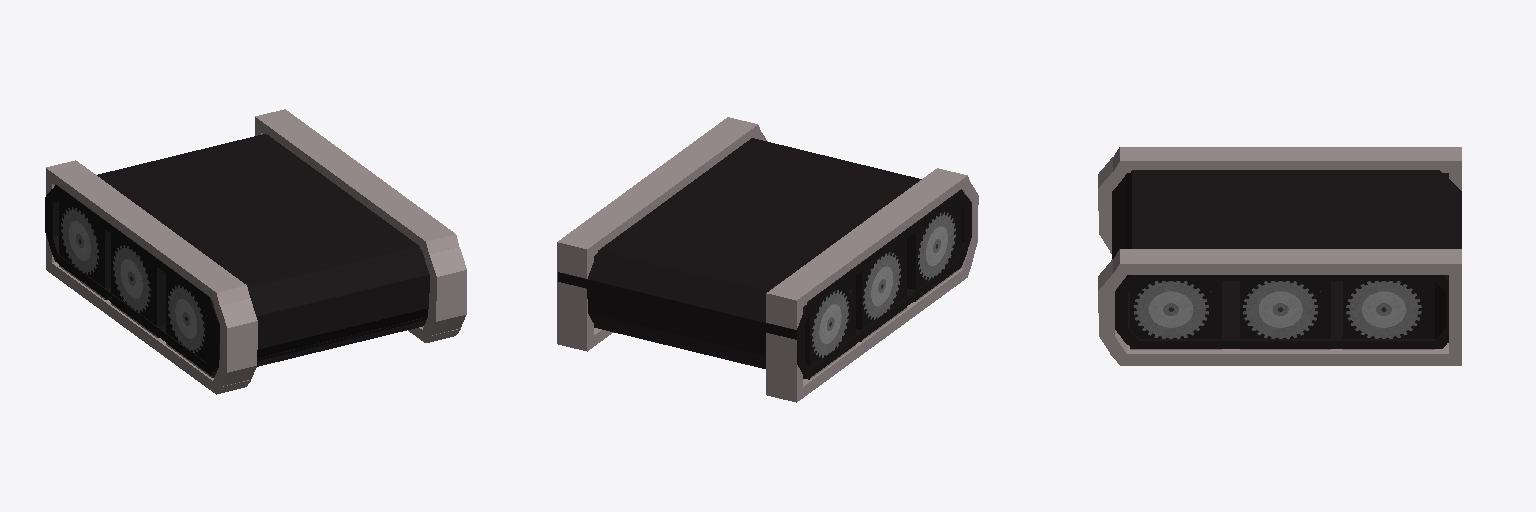
The picture shows the model from 3 angles: view 1: azimuth 30°, elevation 25°; view 2: azimuth 150°, elevation 25°; view 3: azimuth 270°, elevation 25°; orthographic projection.
Visible parts, largest first — view 1: polySurface9, pCube2, pasted__pCube2 group8, pasted__pasted__pCube2 pasted__group8 group9; view 2: polySurface9, pCube2, pasted__pCube2 group8, pasted__pasted__pCube2 pasted__group8 group9; view 3: polySurface9, pasted__pasted__pCube2 pasted__group8 group9, pasted__pCube2 group8, pCube2.
Boxes of the visible parts, box(x1,y1,x2,y2) form: polySurface9: box(45, 109, 466, 394); pCube2: box(166, 274, 425, 377); pasted__pCube2 group8: box(111, 234, 165, 337); pasted__pasted__pCube2 pasted__group8 group9: box(59, 196, 110, 299); polySurface9: box(557, 117, 978, 402); pCube2: box(907, 201, 961, 301); pasted__pCube2 group8: box(856, 238, 906, 341); pasted__pasted__pCube2 pasted__group8 group9: box(805, 276, 855, 379); polySurface9: box(1098, 147, 1461, 365); pasted__pasted__pCube2 pasted__group8 group9: box(1343, 281, 1434, 349); pasted__pCube2 group8: box(1240, 281, 1330, 349); pCube2: box(1130, 281, 1221, 349).
Bounding box in the file's own units: 8.22 × 3.33 × 10.77.
Materials: 1 (1 with a texture image).